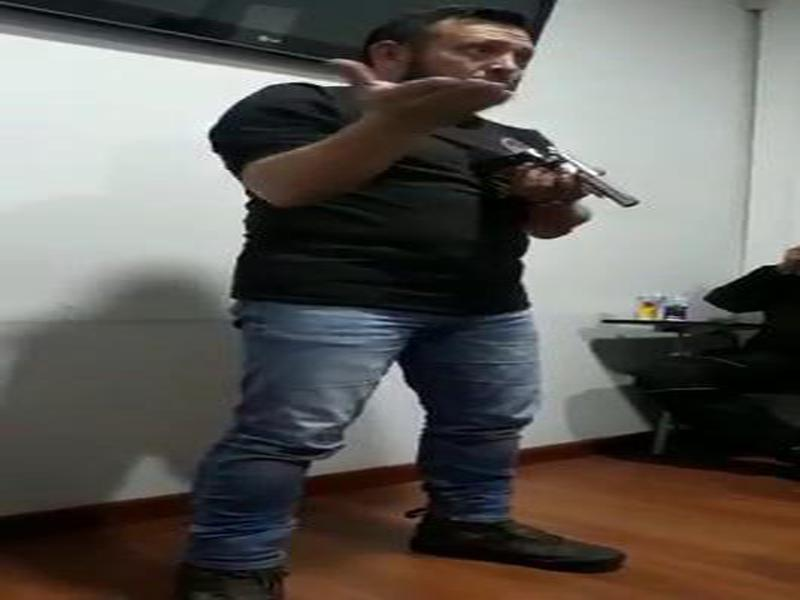Revolver: (451, 108, 652, 245)
